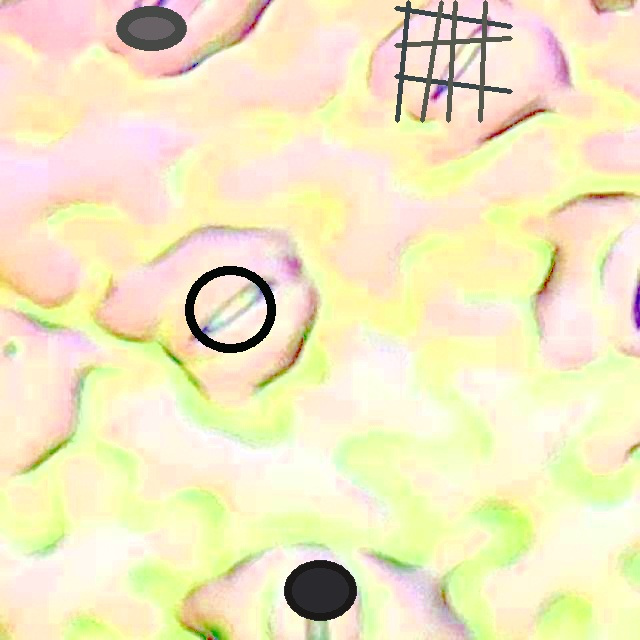open: (395, 1, 511, 121), (184, 266, 276, 353), (284, 560, 356, 621), (116, 6, 186, 50)
